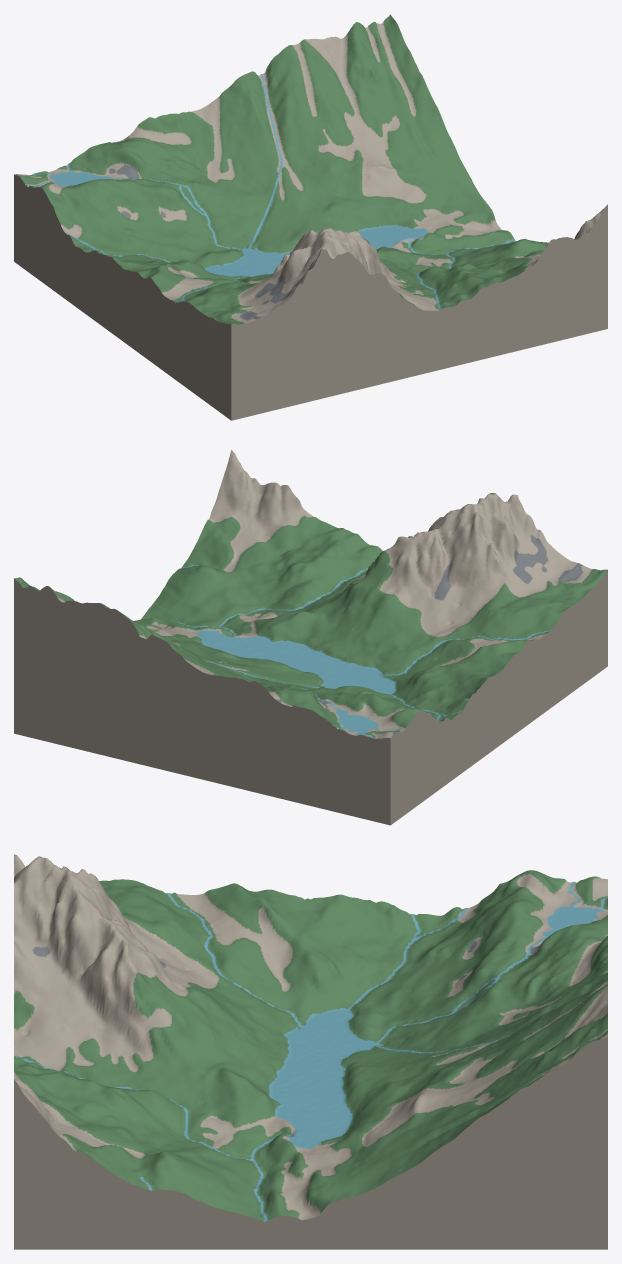
File: sant-maurici.glb
3 renders of one model, top to bottom at view 1: azimuth 30°, elevation 25°; view 2: azimuth 150°, elevation 25°; view 3: azimuth 270°, elevation 25°, orthographic. The views are drawn at different scales.
Parts seen in each view (by area): view 1: Preview surface; view 2: Preview surface; view 3: Preview surface.
Part boxes in pixels (box(x1,y1,x2,y2)): Preview surface: box(14, 14, 607, 420); Preview surface: box(14, 450, 607, 825); Preview surface: box(14, 854, 607, 1249).
Size of the model in its own units: 1 by 0.3958 by 1.
2 materials, 1 textured.
